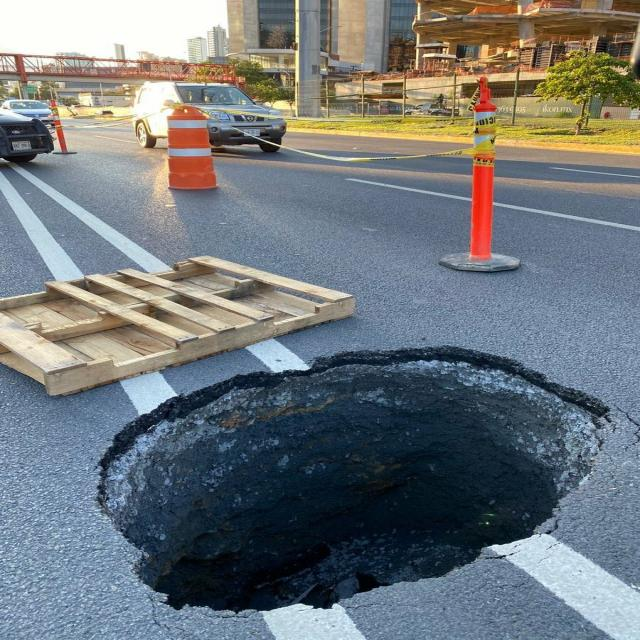Pothole: (57, 336, 629, 634)
